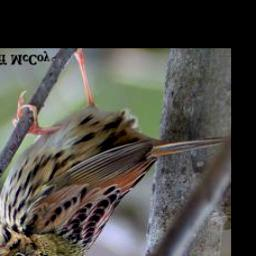Sparrow: (0, 51, 228, 256)
